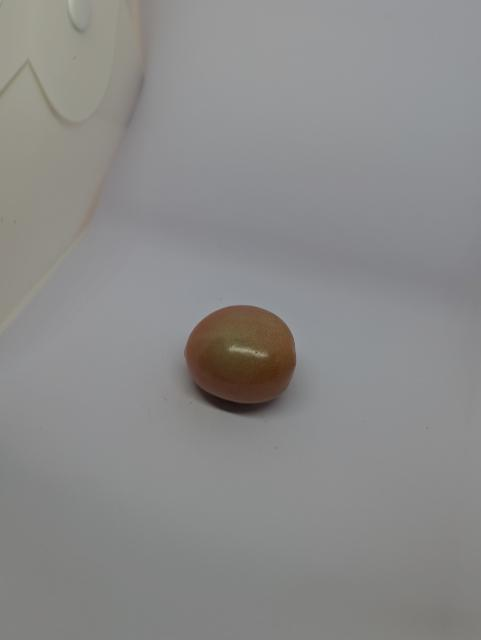turning: (180, 303, 304, 409)
